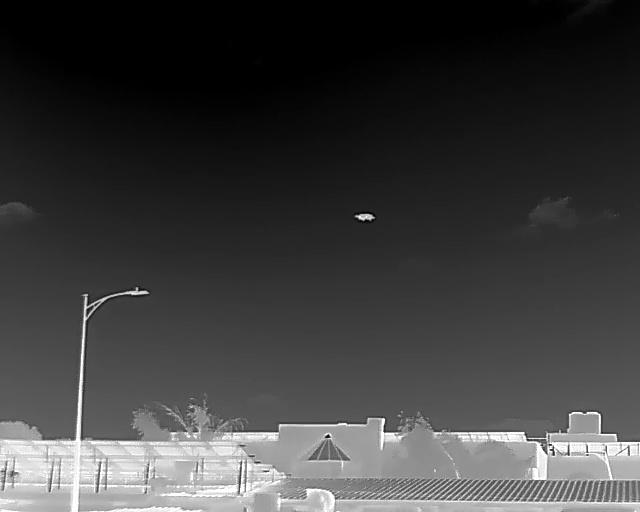fpv-drone: (354, 212, 375, 222)
